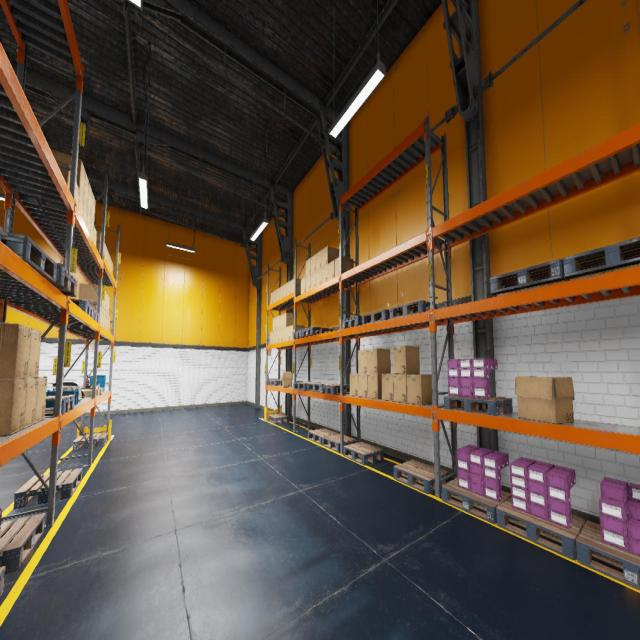box: (514, 376, 575, 424), (50, 148, 86, 200), (0, 322, 31, 378), (0, 378, 27, 436), (407, 374, 432, 405), (23, 378, 38, 429), (393, 345, 419, 374), (78, 282, 104, 308), (28, 328, 41, 378), (367, 348, 390, 374), (35, 376, 47, 424), (367, 373, 389, 399), (334, 255, 354, 277), (55, 160, 70, 188), (393, 374, 407, 403), (381, 374, 394, 402), (322, 246, 339, 267), (71, 298, 97, 310), (290, 324, 305, 340), (358, 373, 367, 398), (358, 350, 367, 373), (349, 374, 358, 396), (283, 313, 296, 328), (84, 172, 89, 208), (290, 278, 302, 293), (281, 372, 293, 386), (78, 191, 84, 217), (87, 384, 99, 396), (88, 183, 92, 218), (328, 260, 334, 280), (322, 264, 328, 284), (310, 254, 316, 274), (96, 230, 101, 252), (310, 272, 316, 290), (76, 183, 80, 208), (83, 201, 87, 226), (316, 250, 321, 270), (92, 193, 95, 225), (86, 210, 90, 233), (316, 268, 321, 286), (305, 274, 310, 292), (81, 390, 92, 398), (90, 218, 94, 240), (93, 226, 97, 246), (306, 258, 310, 277), (301, 277, 305, 294), (286, 326, 290, 341), (286, 280, 290, 295), (107, 296, 110, 315), (282, 327, 286, 341), (272, 317, 276, 331), (283, 283, 287, 297), (276, 287, 280, 301), (106, 314, 109, 330), (279, 314, 282, 329), (279, 328, 282, 342), (276, 316, 279, 330), (280, 285, 283, 299), (104, 291, 106, 311), (106, 294, 108, 314), (101, 308, 103, 326), (103, 310, 105, 328), (105, 312, 107, 330), (270, 292, 273, 304), (108, 316, 110, 332), (106, 248, 108, 263), (108, 253, 110, 267), (110, 257, 112, 270), (273, 331, 275, 344), (111, 262, 113, 274), (276, 330, 278, 342), (270, 332, 272, 344), (274, 290, 276, 302), (100, 306, 101, 325), (105, 243, 106, 258), (104, 242, 105, 255), (100, 388, 102, 394)
pallets: (496, 496, 586, 560), (576, 520, 640, 590), (562, 237, 640, 280), (441, 478, 511, 524), (490, 258, 569, 296), (1, 231, 57, 283), (13, 468, 82, 509), (0, 513, 45, 573), (394, 460, 448, 494), (444, 396, 512, 415), (343, 442, 383, 465), (389, 300, 437, 319), (51, 265, 78, 296), (73, 432, 109, 450), (322, 433, 356, 452), (44, 396, 74, 416), (308, 428, 338, 444), (70, 298, 93, 318), (362, 309, 389, 324), (342, 316, 369, 329), (320, 384, 349, 395), (302, 326, 332, 336), (307, 383, 338, 392), (293, 382, 321, 390), (268, 414, 289, 423), (0, 566, 5, 597), (267, 379, 282, 386), (292, 329, 303, 338), (93, 308, 99, 323), (0, 225, 2, 240)
